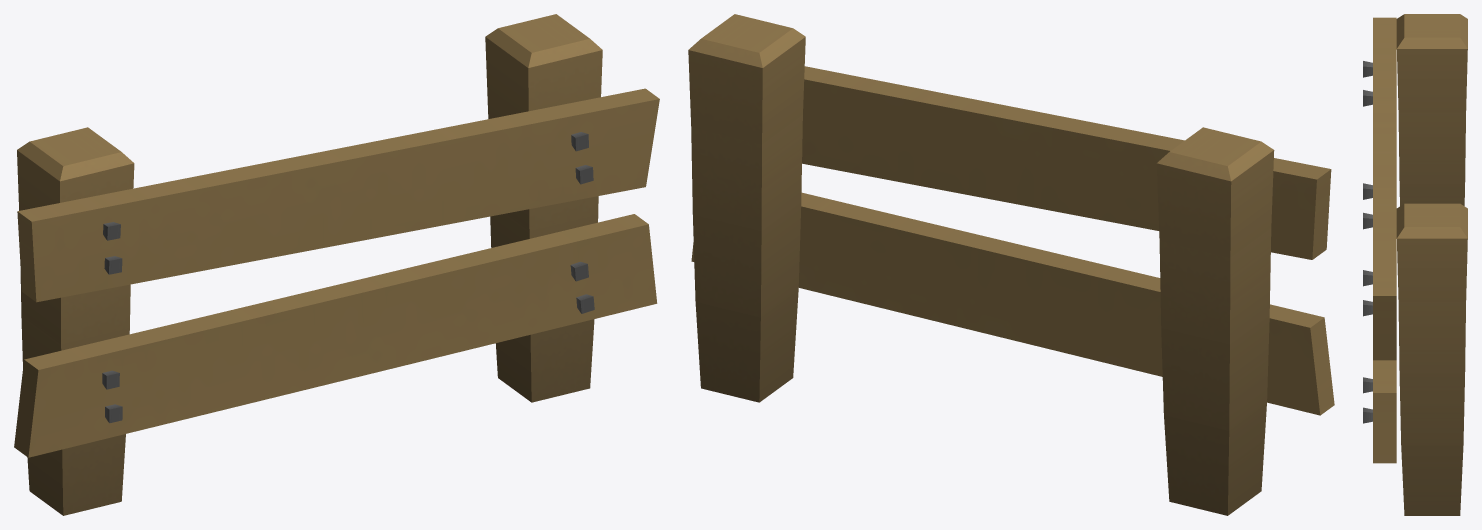
The model's file is Fence_K1.glb.
3 renders of one model, left to right at view 1: azimuth 30°, elevation 25°; view 2: azimuth 150°, elevation 25°; view 3: azimuth 270°, elevation 25°, orthographic. The views are drawn at different scales.
Visible parts, largest first — view 1: Fence_K1.003; view 2: Fence_K1.003; view 3: Fence_K1.003.
Boxes of the visible parts, x1,y1,x2,y2 form: Fence_K1.003: (14,14,659,515); Fence_K1.003: (688,14,1334,515); Fence_K1.003: (1363,14,1467,515).
Size of the model in its own units: 2.91 by 1.55 by 0.5065.
1 material, 1 textured.
